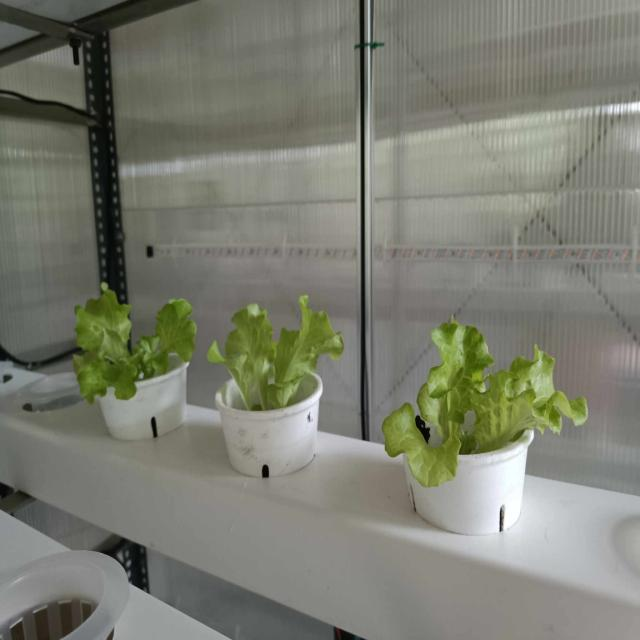Lettuce-Not-Ready-to-Harvest: (380, 314, 588, 504), (211, 294, 347, 433), (68, 287, 194, 427)
